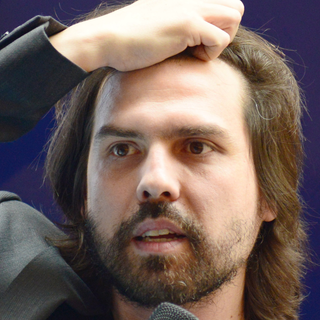eye: (177, 135, 224, 161), (101, 139, 143, 164)
